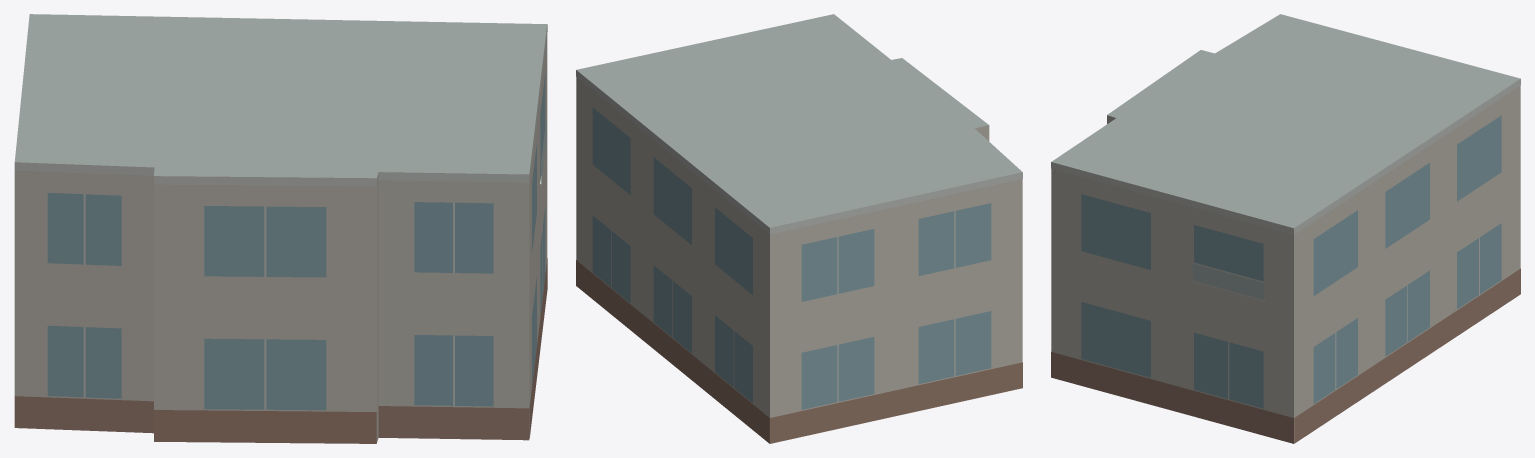
The model's file is survey-upis-32701415.glb.
3 views of the same model, side by side, from view 1: azimuth 30°, elevation 25°; view 2: azimuth 150°, elevation 25°; view 3: azimuth 270°, elevation 25° (orthographic). The views are drawn at different scales.
Visible parts, largest first — view 1: survey-upis-32701415.tmp; view 2: survey-upis-32701415.tmp; view 3: survey-upis-32701415.tmp.
Part boxes in pixels (box(x1,y1,x2,y2)): survey-upis-32701415.tmp: box(14, 14, 547, 443); survey-upis-32701415.tmp: box(576, 14, 1022, 443); survey-upis-32701415.tmp: box(1051, 14, 1520, 443).
Size of the model in its own units: 16.74 by 7.85 by 15.51.
